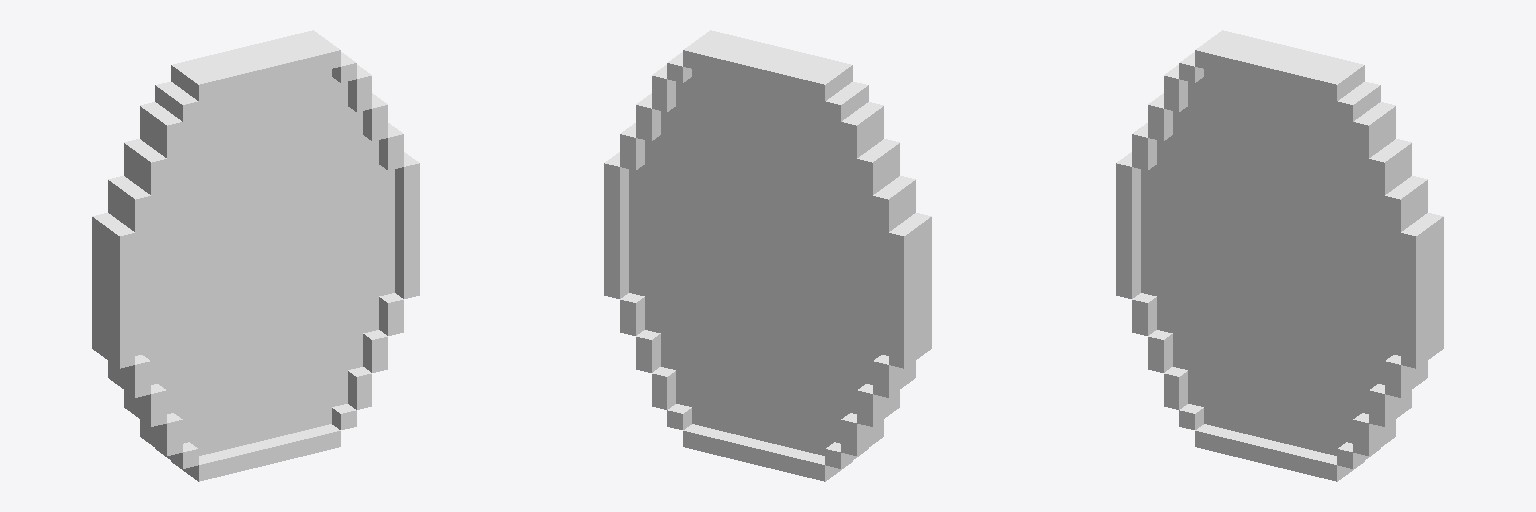
The model's file is Portal.obj.
3 views of the same model, side by side, from view 1: azimuth 30°, elevation 25°; view 2: azimuth 150°, elevation 25°; view 3: azimuth 330°, elevation 25° (orthographic).
Visible parts, largest first — view 1: Portal; view 2: Portal; view 3: Portal.
Boxes of the visible parts, <box> form: Portal: <box>92,30,419,481</box>; Portal: <box>604,30,931,481</box>; Portal: <box>1116,30,1443,481</box>.
Bounding box in the file's own units: 1.9 × 2.4 × 0.3.